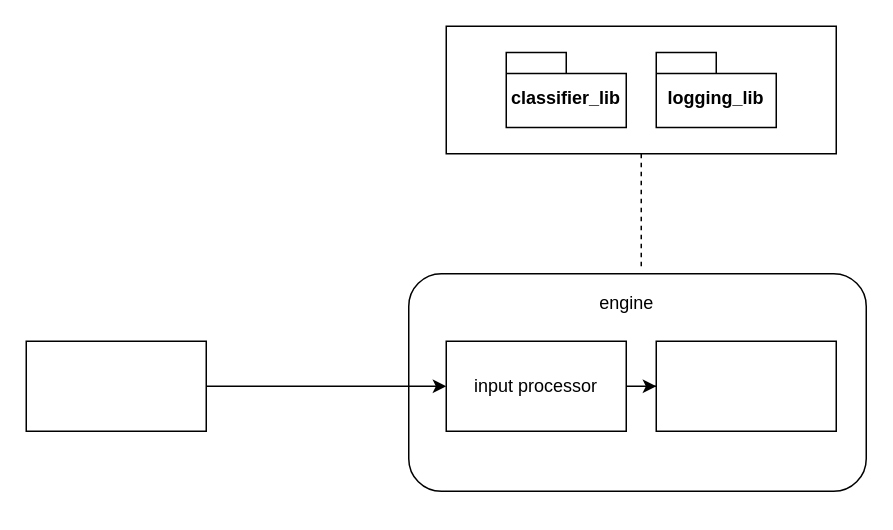
Some shapes in this 893 by 530 pixel diagram are drawn without their labels. Each missing label, with the centre of its shape:
"recognizer" belongs at (745,385).
"web-parser" belongs at (115,385).
